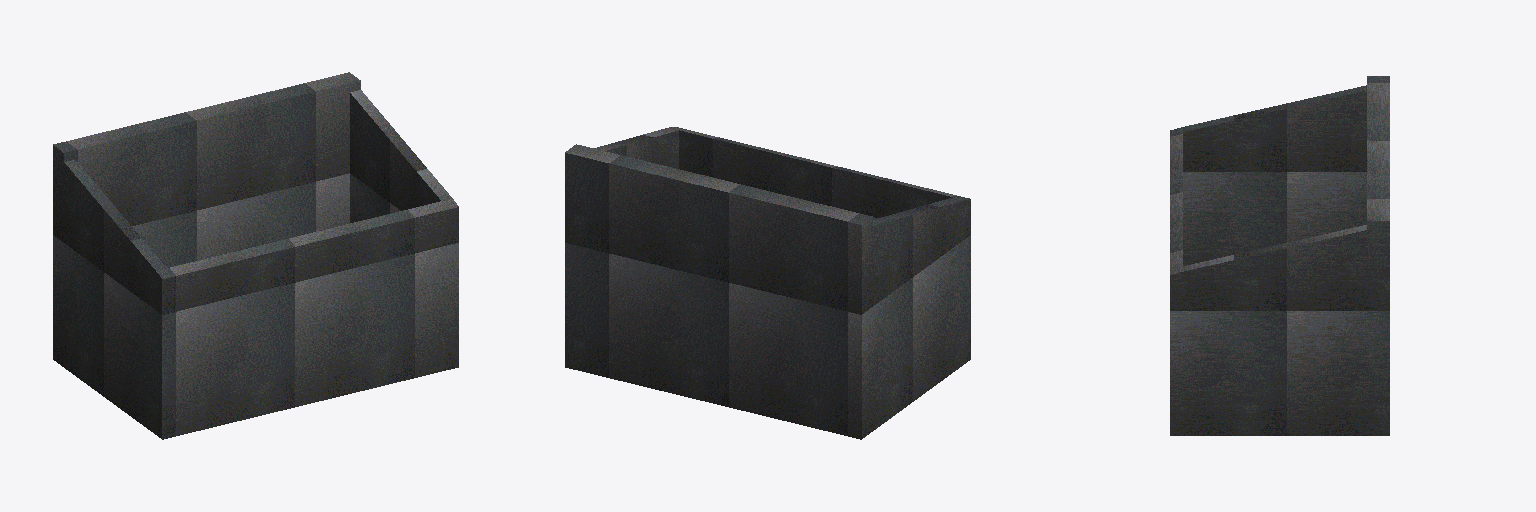
3 views of the same model, side by side, from view 1: azimuth 30°, elevation 25°; view 2: azimuth 150°, elevation 25°; view 3: azimuth 270°, elevation 25° (orthographic).
Visible parts, largest first — view 1: FridgeBox; view 2: FridgeBox; view 3: FridgeBox.
Boxes of the visible parts, <box> form: FridgeBox: <box>53,72,458,439</box>; FridgeBox: <box>565,127,970,439</box>; FridgeBox: <box>1170,76,1389,435</box>.
Bounding box in the file's own units: 3.73 × 2.58 × 2.39.
1 materials, 1 textured.